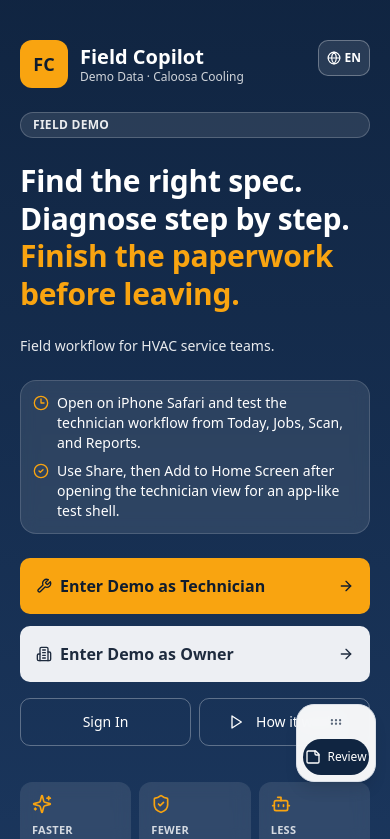
Test case: migration baseline › shows a guided local review state instead of an empty offline exchange
What coordinates should you click on to do the following:
click the button with aria-label "review layer"
I would click on:
 (336, 757)
Its box is [303, 739, 369, 775].
(page scrolled)
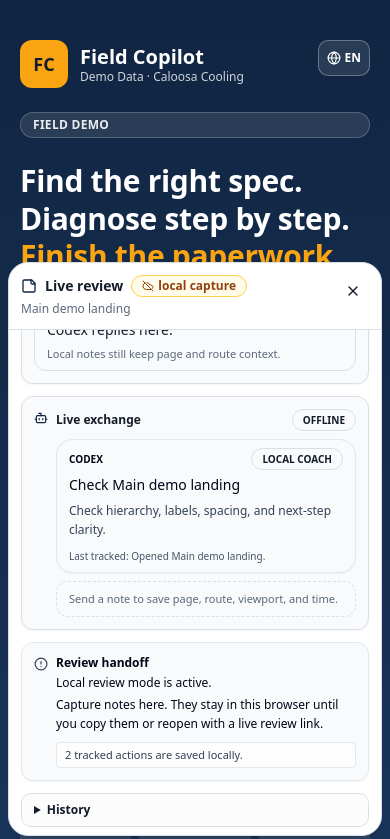
Expected: the text "Check Main demo landing" is shown, [69, 475, 240, 494]
Expected: the text "Send a note to save page, route, viewport, and time." is shown, [56, 581, 356, 617]
Expected: the text "2 tracked actions are saved locally." is shown, [56, 742, 356, 768]
